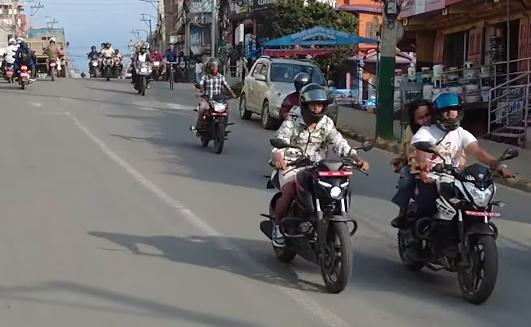bike: (389, 136, 521, 309), (260, 130, 374, 298), (188, 86, 239, 153)
